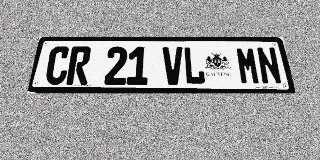1: (126, 47, 148, 85)
2: (104, 47, 128, 85)
C: (44, 46, 71, 85)
L: (183, 47, 206, 85)
M: (235, 47, 261, 85)
N: (255, 47, 283, 85)
R: (66, 46, 92, 85)
V: (163, 47, 184, 85)
